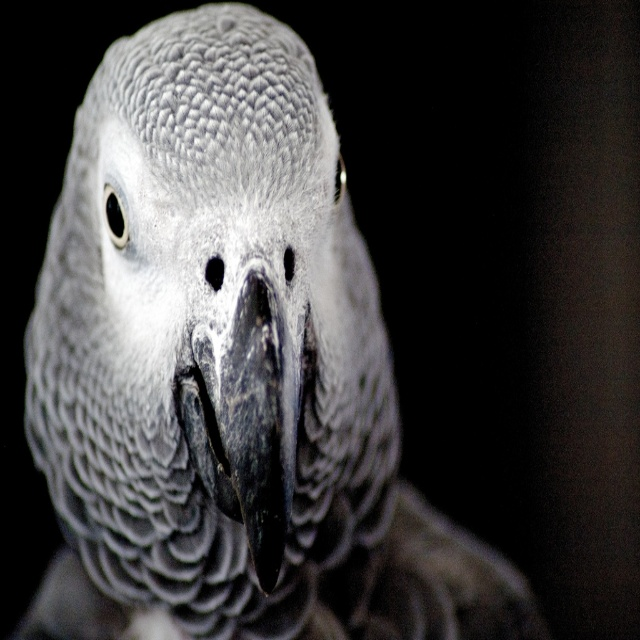Parrot: (18, 0, 546, 639)
